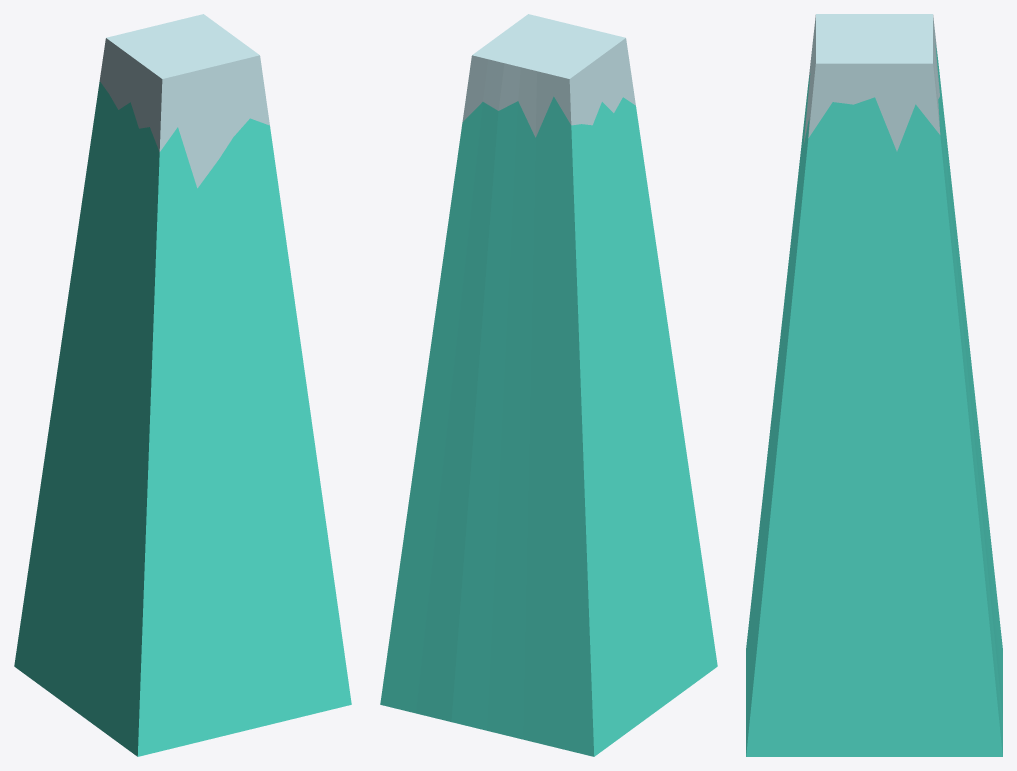
The model's file is Mountain4.fbx.
3 views of the same model, side by side, from view 1: azimuth 30°, elevation 25°; view 2: azimuth 150°, elevation 25°; view 3: azimuth 270°, elevation 25° (orthographic). The views are drawn at different scales.
Visible parts, largest first — view 1: dağ4; view 2: dağ4; view 3: dağ4.
Part boxes in pixels (box(x1,y1,x2,y2)): dağ4: box(14, 14, 351, 756); dağ4: box(380, 14, 717, 756); dağ4: box(746, 14, 1002, 756).
Bounding box in the file's own units: 0.9033 × 2.58 × 0.9033.
